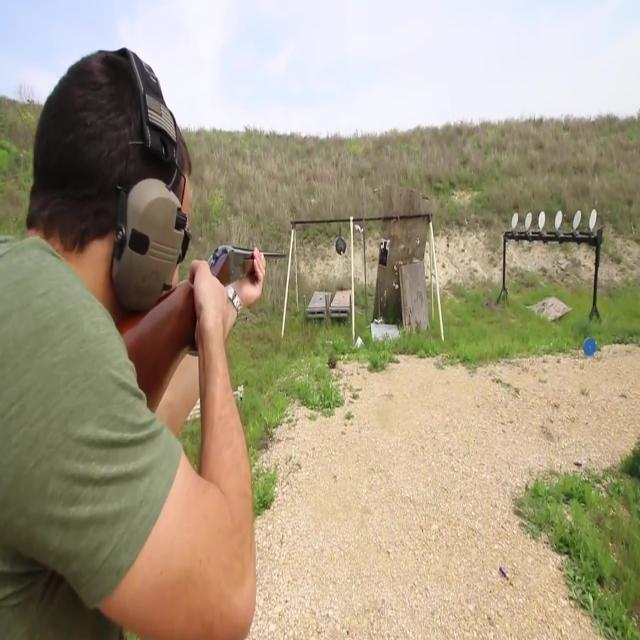Weapon: (103, 218, 298, 396)
